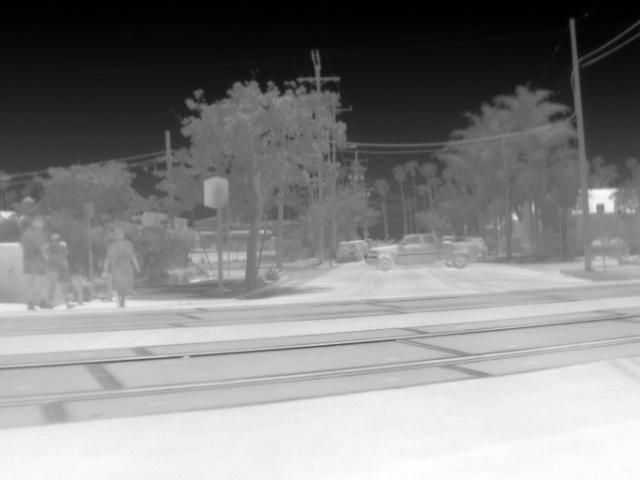car: (366, 229, 479, 271), (459, 236, 488, 261), (337, 239, 367, 263), (606, 235, 632, 261), (589, 237, 603, 259)
person: (98, 226, 140, 310), (41, 233, 78, 311)
